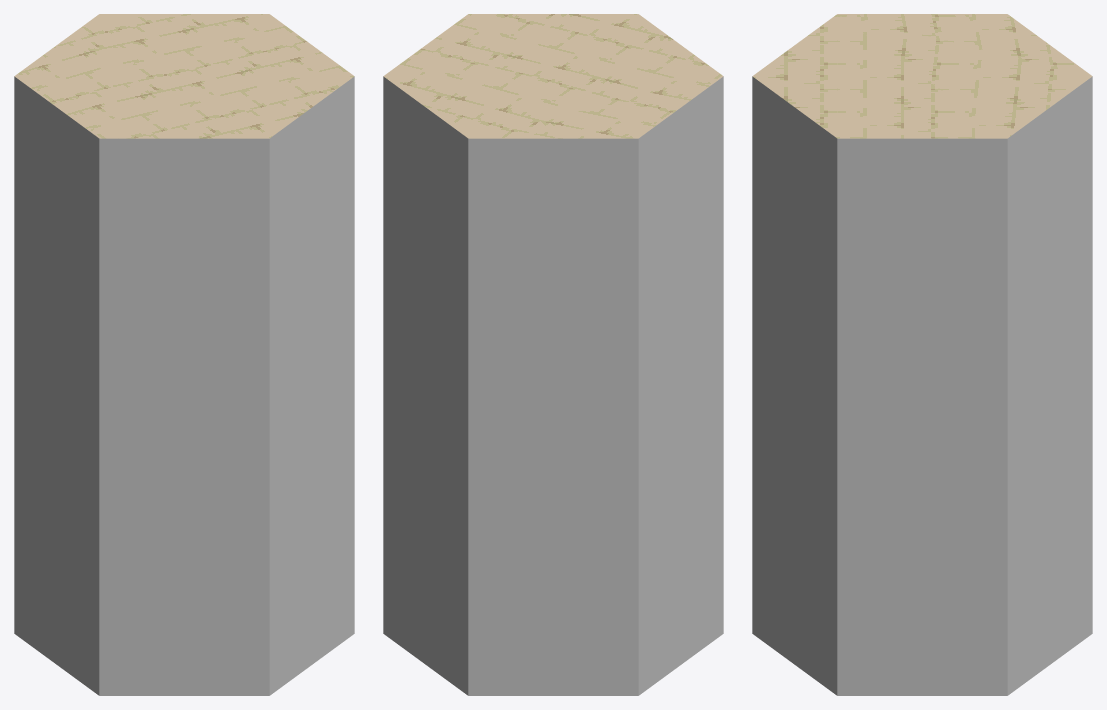
The model's file is Tower-Small.fbx.
3 views of the same model, side by side, from view 1: azimuth 30°, elevation 25°; view 2: azimuth 150°, elevation 25°; view 3: azimuth 270°, elevation 25° (orthographic).
Visible parts, largest first — view 1: Small-Tower; view 2: Small-Tower; view 3: Small-Tower.
Part boxes in pixels (<box>): Small-Tower: <box>14,14,354,695</box>; Small-Tower: <box>383,14,723,695</box>; Small-Tower: <box>752,14,1092,695</box>.
Bounding box in the file's own units: 1401 × 2923 × 1618.
